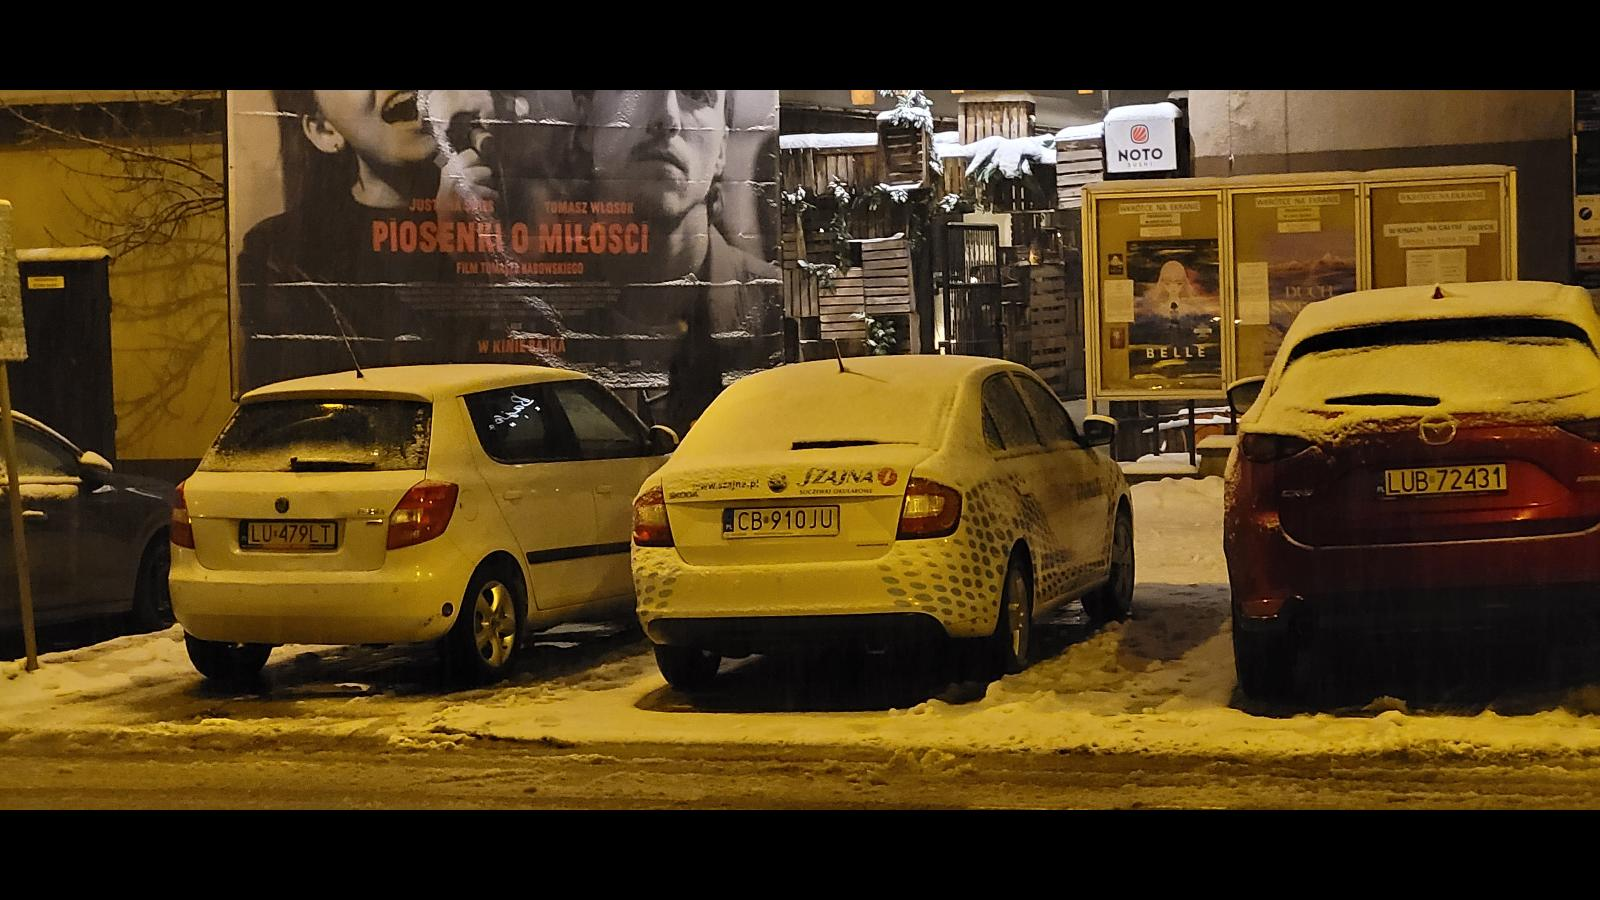plates: (1373, 463, 1507, 501), (724, 506, 840, 538), (240, 521, 338, 549)
